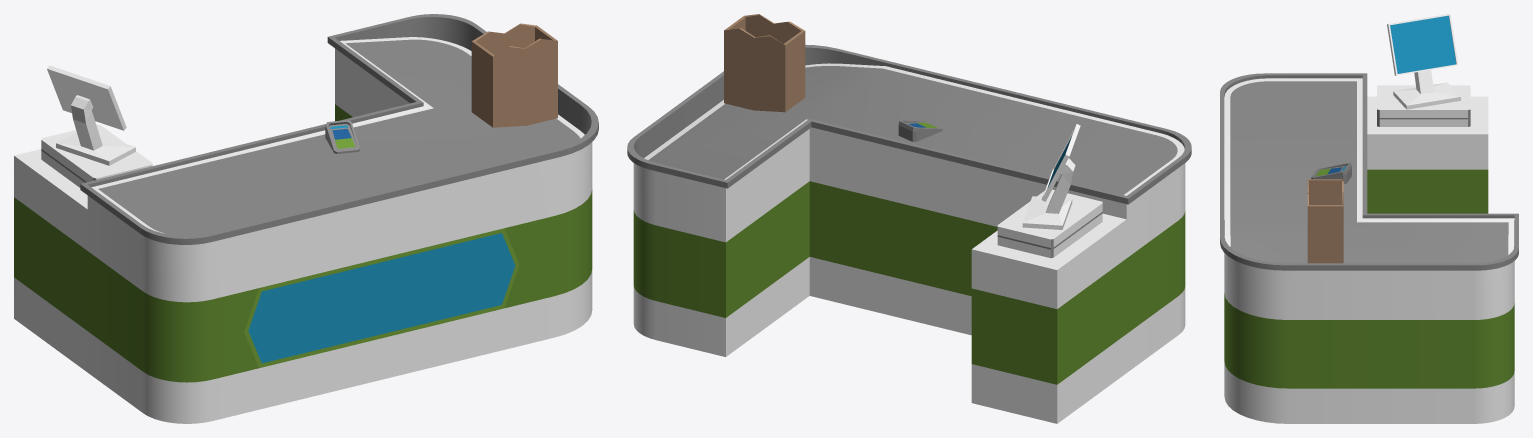
The model's file is SM_office_01.fbx.
3 views of the same model, side by side, from view 1: azimuth 30°, elevation 25°; view 2: azimuth 150°, elevation 25°; view 3: azimuth 270°, elevation 25° (orthographic). The views are drawn at different scales.
Visible parts, largest first — view 1: SM_office_01; view 2: SM_office_01; view 3: SM_office_01.
Part boxes in pixels (left/top/right/bottom): SM_office_01: left=14, top=14, right=598, bottom=423; SM_office_01: left=627, top=14, right=1191, bottom=423; SM_office_01: left=1220, top=14, right=1518, bottom=423.
Size of the model in its own units: 271 by 150 by 178.
